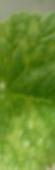Tomato leaf mosaic virus: (0, 15, 55, 170)
